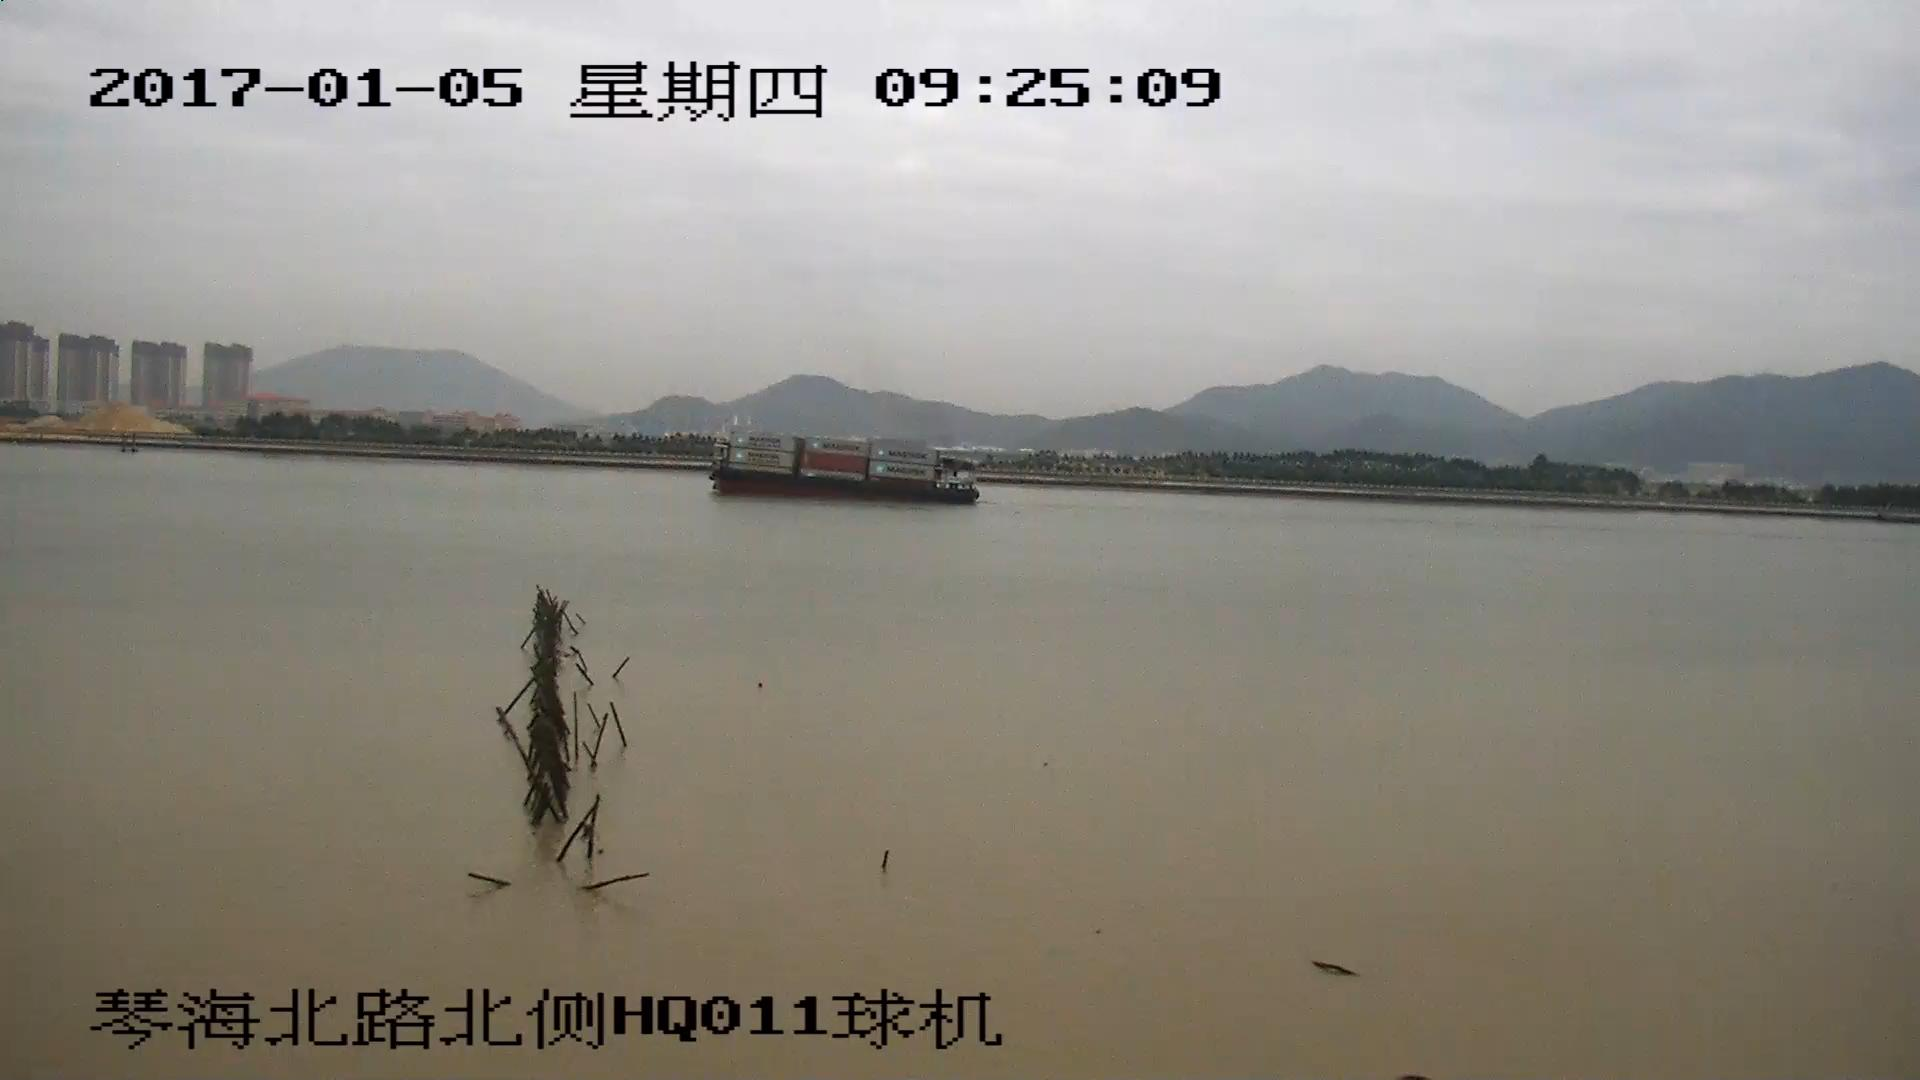container ship: (706, 432, 974, 505)
